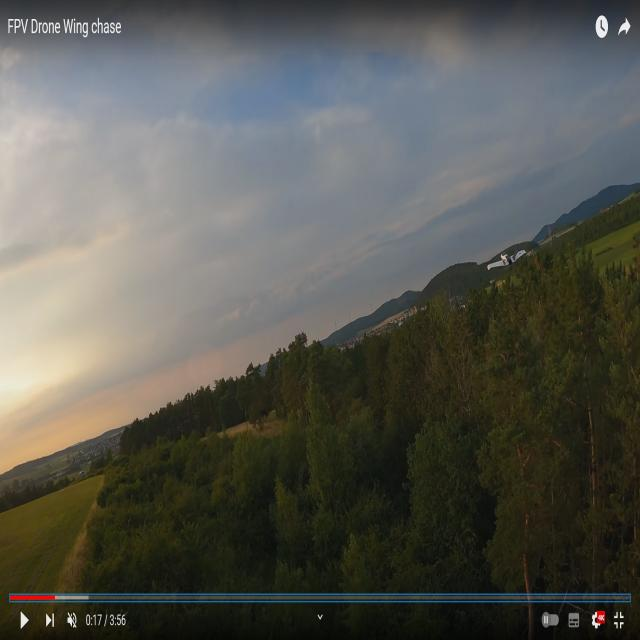iha: (484, 246, 528, 274)
